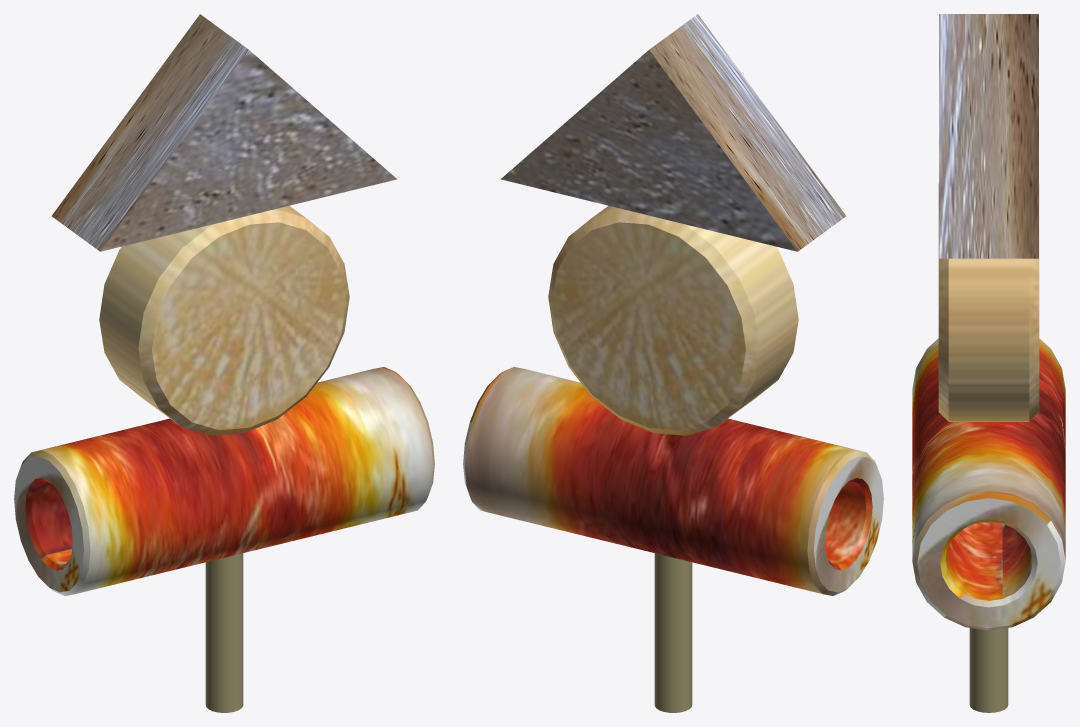
The model's file is oden.fbx.
The picture shows the model from 3 angles, left to right: view 1: azimuth 30°, elevation 25°; view 2: azimuth 150°, elevation 25°; view 3: azimuth 270°, elevation 25°; orthographic projection. The views are drawn at different scales.
Visible parts, largest first — view 1: pCylinder6; view 2: pCylinder6; view 3: pCylinder6.
Boxes of the visible parts, left/top/right/bottom form: pCylinder6: left=14, top=14, right=434, bottom=712; pCylinder6: left=463, top=14, right=883, bottom=712; pCylinder6: left=912, top=14, right=1065, bottom=712.
Bounding box in the file's own units: 3.32 × 6.09 × 1.23.
Materials: 2 (1 with a texture image).
